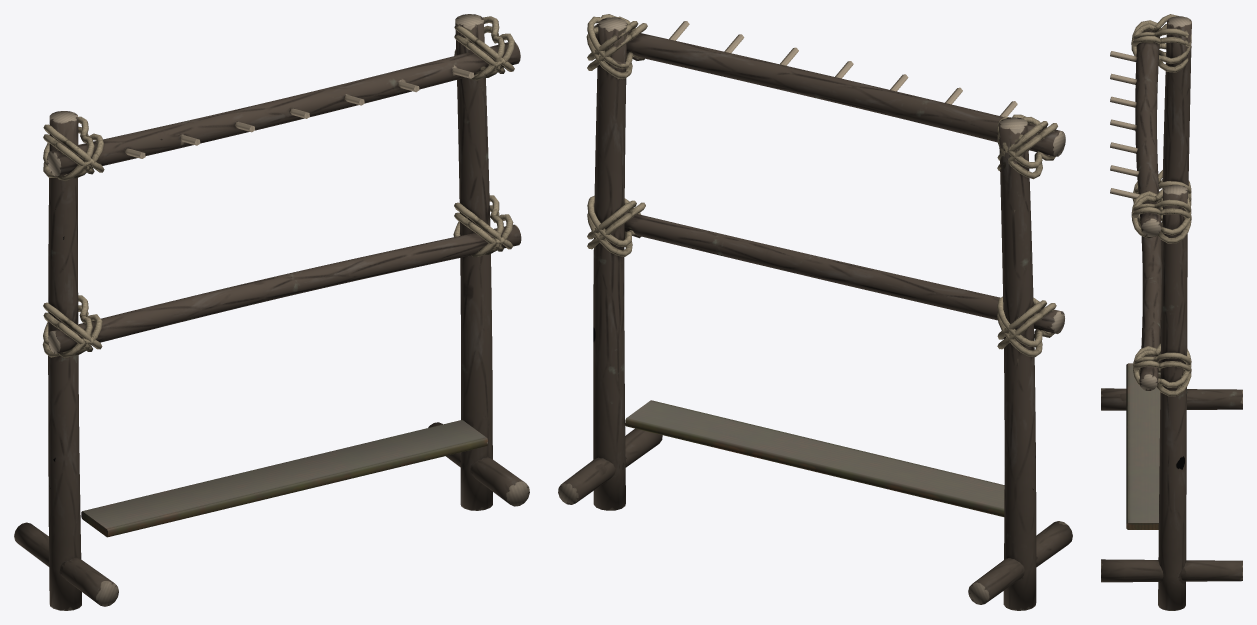
Rendered from SM_Barracks_WeaponRack.fbx.
The picture shows the model from 3 angles, left to right: view 1: azimuth 30°, elevation 25°; view 2: azimuth 150°, elevation 25°; view 3: azimuth 270°, elevation 25°; orthographic projection. The views are drawn at different scales.
Visible parts, largest first — view 1: SM_Barracks_WeaponRack; view 2: SM_Barracks_WeaponRack; view 3: SM_Barracks_WeaponRack.
Boxes of the visible parts, bbox=[...] form: SM_Barracks_WeaponRack: bbox=[14, 14, 529, 610]; SM_Barracks_WeaponRack: bbox=[558, 14, 1072, 610]; SM_Barracks_WeaponRack: bbox=[1101, 14, 1242, 610].
Bounding box in the file's own units: 180 × 56 × 180.
